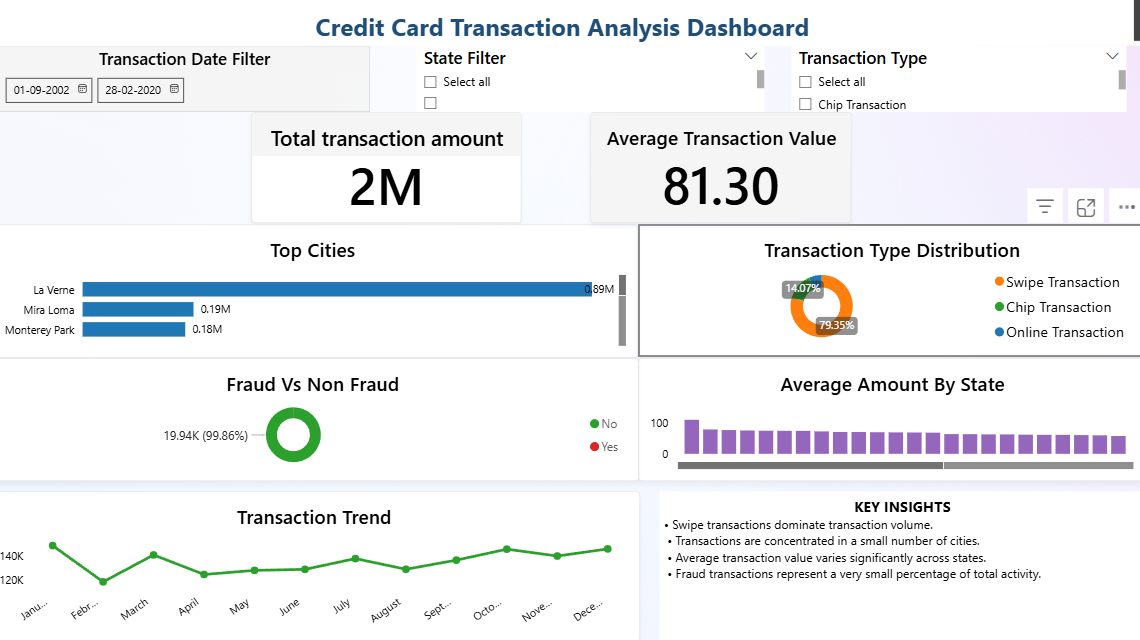

What the dashboard file says about the page in this screenshot:
{"tool":"powerbi","page":{"name":"Page 1","canvas":[1280,720],"ordinal":0},"visuals":[{"type":"card","title":"Total transaction amount","fields":{"Values":["Sum(transactions_clean csv.Amount)"]},"box":[293.2,135.8,298.2,122.6],"z":0},{"type":"donutChart","title":"Transaction Type Distribution","fields":{"Category":["transactions_clean csv.Use Chip"],"Y":["CountNonNull(transactions_clean csv.Amount)"]},"box":[720.8,259.4,559.2,146.5],"z":1000},{"type":"clusteredColumnChart","title":"Average Amount By State","fields":{"Category":["transactions_clean csv.Merchant State"],"Y":["Avg(transactions_clean csv.Amount)"]},"box":[720.6,407.5,559.9,135.8],"z":2000},{"type":"clusteredBarChart","title":"Top Cities","fields":{"Category":["transactions_clean csv.Merchant City"],"Y":["Sum(transactions_clean csv.Amount)"]},"box":[0,260.8,720,147.4],"z":3000},{"type":"lineChart","title":"Transaction Trend","fields":{"Y":["Sum(transactions_clean csv.Amount)"],"Category":["transactions_clean csv.Transaction date.Variation.Date Hierarchy.Month"]},"box":[1.7,554.4,720.6,165.6],"z":4000},{"type":"slicer","title":"Transaction Date Filter","fields":{"Values":["transactions_clean csv.Transaction date"]},"box":[13.3,62.9,410.8,72.9],"z":5000},{"type":"slicer","fields":{"Values":["transactions_clean csv.Use Chip"]},"box":[889.5,62.9,369.4,72.9],"z":6000},{"type":"slicer","fields":{"Values":["transactions_clean csv.Merchant State"]},"box":[475.4,62.9,384.3,72.9],"z":7000},{"type":"textbox","box":[743.8,554.4,536.7,165.6],"z":8000},{"type":"textbox","box":[1.7,0,1278.8,62.9],"z":9000},{"type":"card","title":"Average Transaction Value","fields":{"Values":["Avg(transactions_clean csv.Amount)"]},"box":[667.6,135.8,288.2,122.6],"z":10000},{"type":"donutChart","title":"Fraud Vs Non Fraud","fields":{"Category":["transactions_clean csv.Is Fraud?"],"Y":["CountNonNull(transactions_clean csv.Amount)"]},"box":[0,407.5,720.6,135.8],"z":11000}]}

Visuals, with their boxes in screenshot pixels (x1, y1, x2, y2), scaled from the page's 1280x720 canvas onto the 1140x640 screenshot:
"Total transaction amount" card: x1=261 y1=121 x2=527 y2=230
"Transaction Type Distribution" donutChart: x1=642 y1=231 x2=1139 y2=361
"Average Amount By State" clusteredColumnChart: x1=642 y1=362 x2=1139 y2=483
"Top Cities" clusteredBarChart: x1=0 y1=232 x2=641 y2=363
"Transaction Trend" lineChart: x1=2 y1=493 x2=643 y2=639
"Transaction Date Filter" slicer: x1=12 y1=56 x2=378 y2=121
slicer - transactions_clean csv.Use Chip: x1=792 y1=56 x2=1121 y2=121
slicer - transactions_clean csv.Merchant State: x1=423 y1=56 x2=766 y2=121
textbox: x1=662 y1=493 x2=1139 y2=639
textbox: x1=2 y1=0 x2=1139 y2=56
"Average Transaction Value" card: x1=595 y1=121 x2=851 y2=230
"Fraud Vs Non Fraud" donutChart: x1=0 y1=362 x2=642 y2=483
